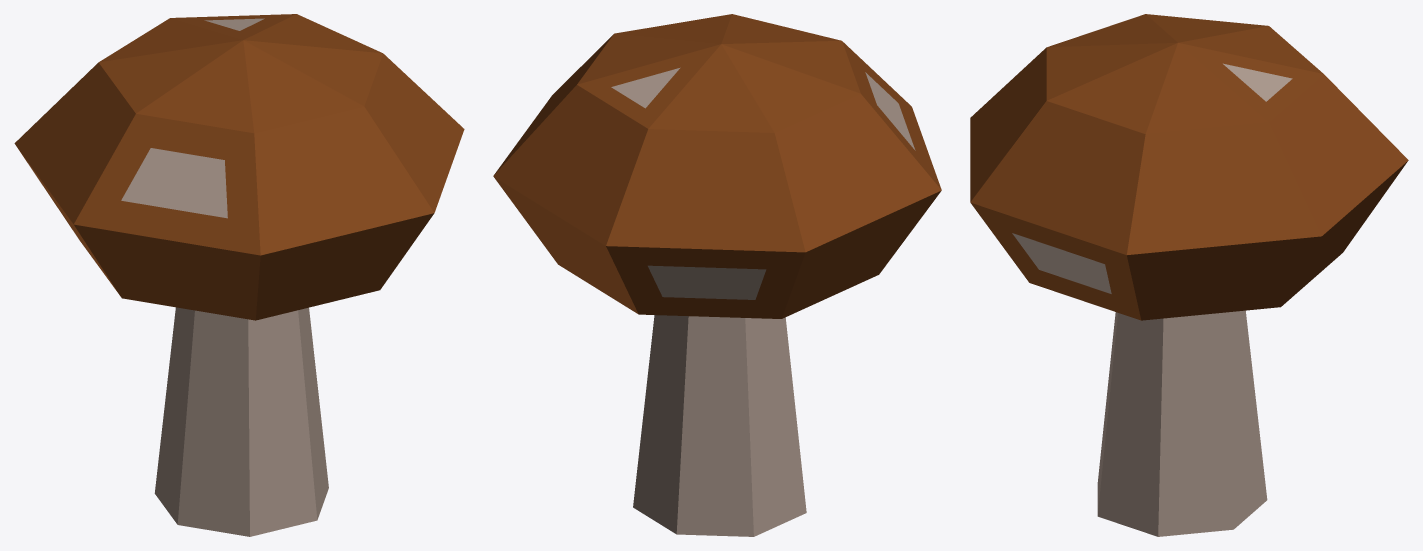
Rendered from ButtonMushroom2.fbx.
3 views of the same model, side by side, from view 1: azimuth 30°, elevation 25°; view 2: azimuth 150°, elevation 25°; view 3: azimuth 270°, elevation 25° (orthographic).
Visible parts, largest first — view 1: ButtonMushroom2; view 2: ButtonMushroom2; view 3: ButtonMushroom2.
Part boxes in pixels (x1,y1,x2,y2): ButtonMushroom2: [14, 14, 464, 536]; ButtonMushroom2: [493, 14, 941, 536]; ButtonMushroom2: [970, 14, 1408, 536].
Bounding box in the file's own units: 23.84 × 26.75 × 23.24.
